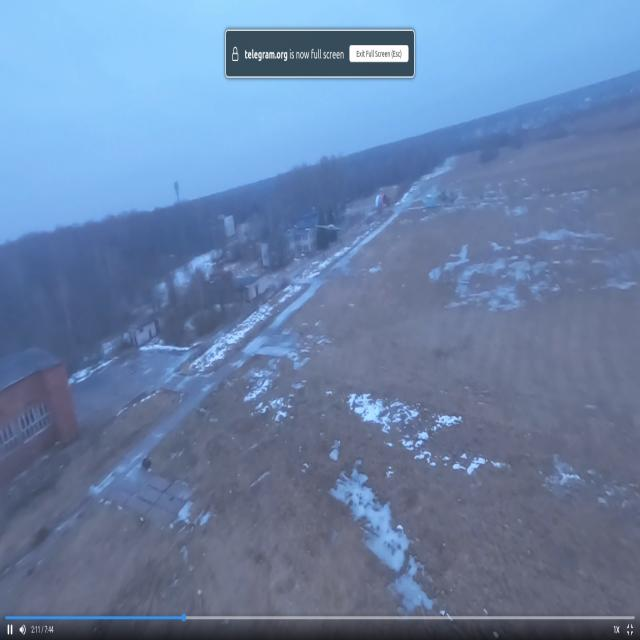planedrone: (312, 217, 344, 238)
